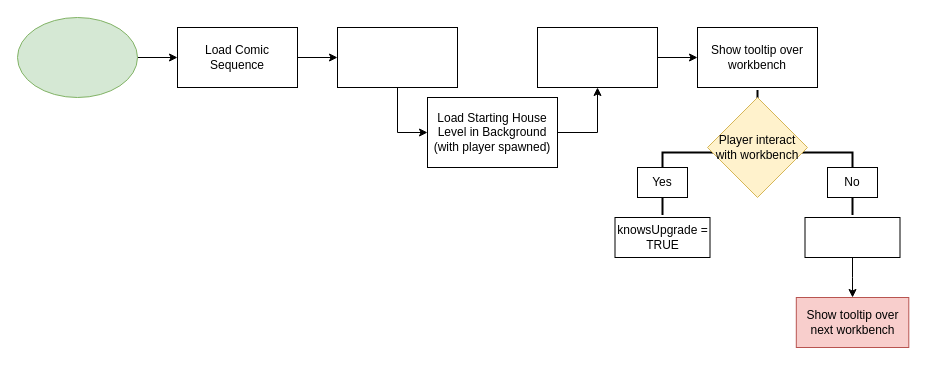
Some shapes in this 927 by 365 pixel diagram are drawn without their labels. Here are the shapes that lost their labels. From the top down, the box of each, then its label:
(16, 16, 138, 98): Game Start
(336, 26, 458, 88): Camera pans to each box with VFX
(536, 26, 658, 88): Fade to black the open once level loaded
(804, 216, 900, 258): knowsUpgrade = False
